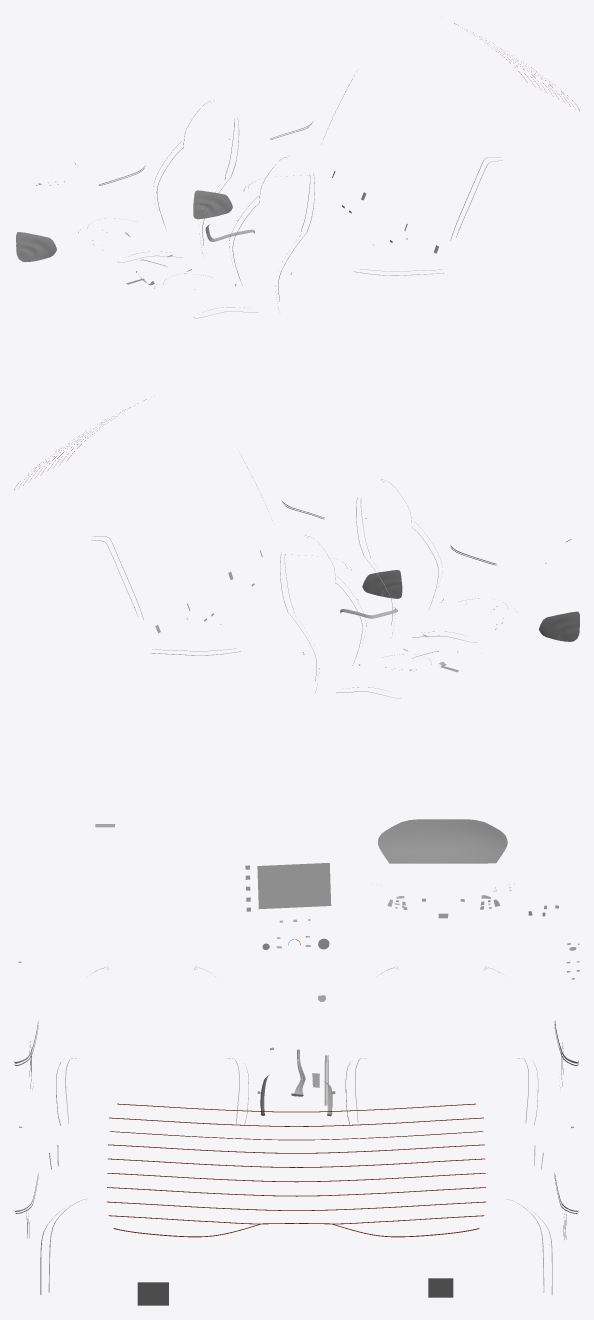
The model's file is MAGNITE_TURBO_CVT_XV_PRE_IN_DECAL_MESH.glb.
The picture shows the model from 3 angles, top to bottom: view 1: azimuth 30°, elevation 25°; view 2: azimuth 150°, elevation 25°; view 3: azimuth 270°, elevation 25°; orthographic projection. The views are drawn at different scales.
Visible parts, largest first — view 1: MAGNITE_TURBO_CVT_XV_PRE_IN_DECAL_MESH; view 2: MAGNITE_TURBO_CVT_XV_PRE_IN_DECAL_MESH; view 3: MAGNITE_TURBO_CVT_XV_PRE_IN_DECAL_MESH.
Boxes of the visible parts, x1,y1,x2,y2 form: MAGNITE_TURBO_CVT_XV_PRE_IN_DECAL_MESH: (16, 23, 579, 318); MAGNITE_TURBO_CVT_XV_PRE_IN_DECAL_MESH: (14, 399, 579, 698); MAGNITE_TURBO_CVT_XV_PRE_IN_DECAL_MESH: (14, 819, 579, 1305).
Size of the model in its own units: 2.53 by 1 by 1.37.
